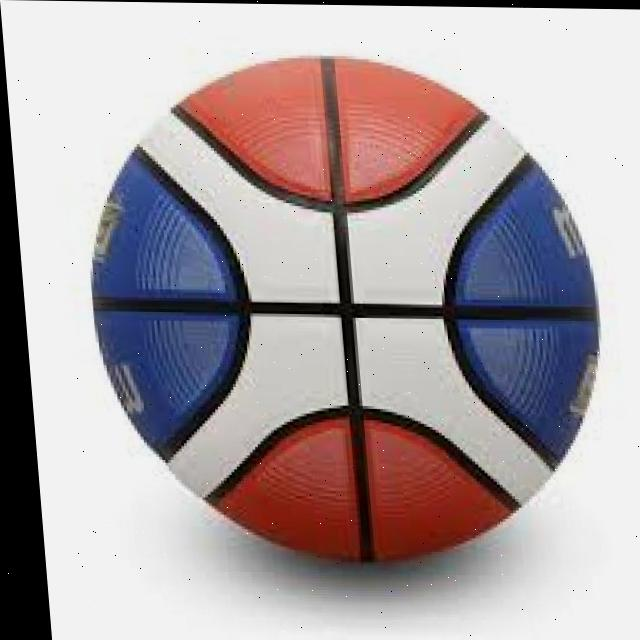Basketball: (70, 52, 619, 565)
